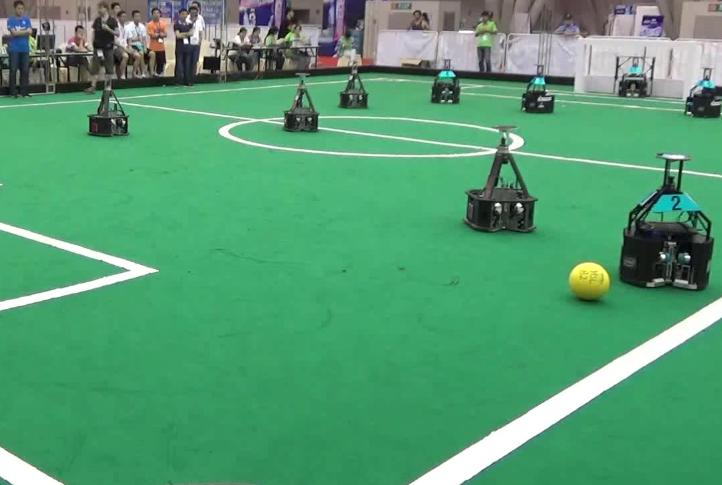robot: (616, 137, 715, 295), (455, 122, 538, 233)
